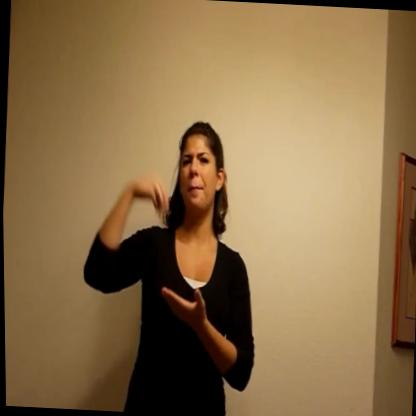Expensive: (112, 163, 229, 353)
